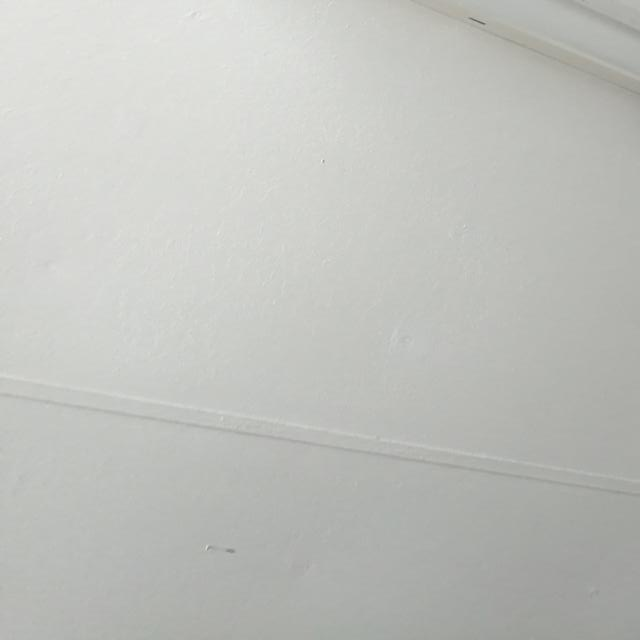fluorescent tube: (120, 0, 640, 263)
